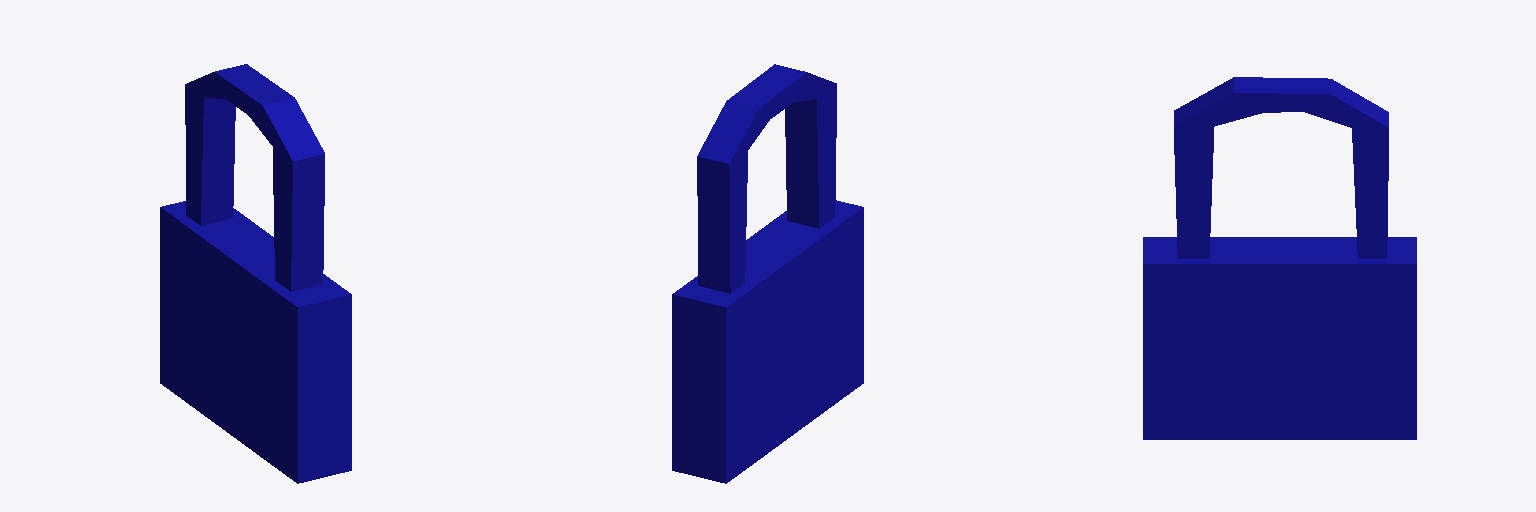
Rendered from lock.obj.
3 renders of one model, left to right at view 1: azimuth 30°, elevation 25°; view 2: azimuth 150°, elevation 25°; view 3: azimuth 270°, elevation 25°, orthographic.
Visible parts, largest first — view 1: Box001; view 2: Box001; view 3: Box001.
Boxes of the visible parts, x1,y1,x2,y2 form: Box001: [160, 64, 351, 483]; Box001: [672, 64, 863, 483]; Box001: [1143, 77, 1416, 439].
Bounding box in the file's own units: 0.0228 × 0.1377 × 0.1002.